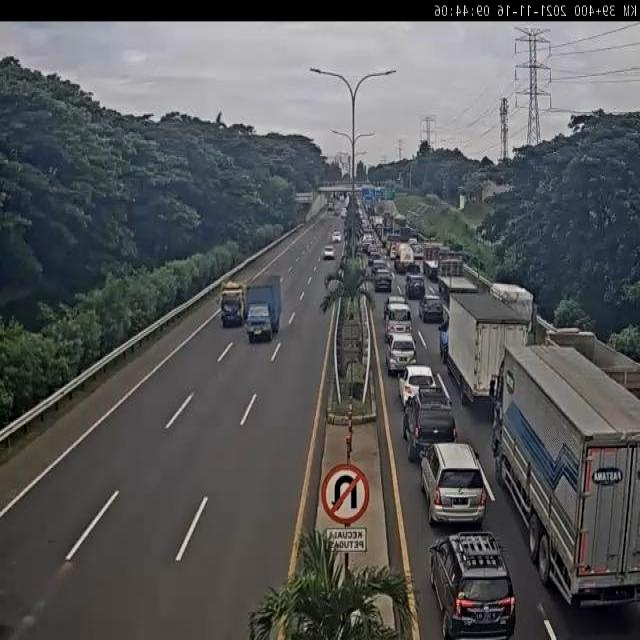Car: (427, 530, 515, 640), (420, 442, 488, 526), (404, 386, 456, 461), (398, 365, 438, 410), (385, 332, 417, 376), (419, 293, 445, 323), (405, 274, 426, 300), (374, 270, 393, 292), (323, 245, 335, 260), (340, 208, 348, 219), (327, 203, 334, 212)
Truck: (494, 338, 640, 605), (443, 284, 534, 412), (245, 272, 281, 344), (216, 279, 247, 330), (373, 220, 386, 242), (383, 213, 395, 234)
